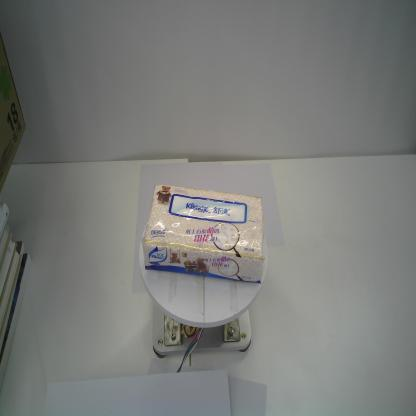Tissue: (141, 184, 265, 283)
